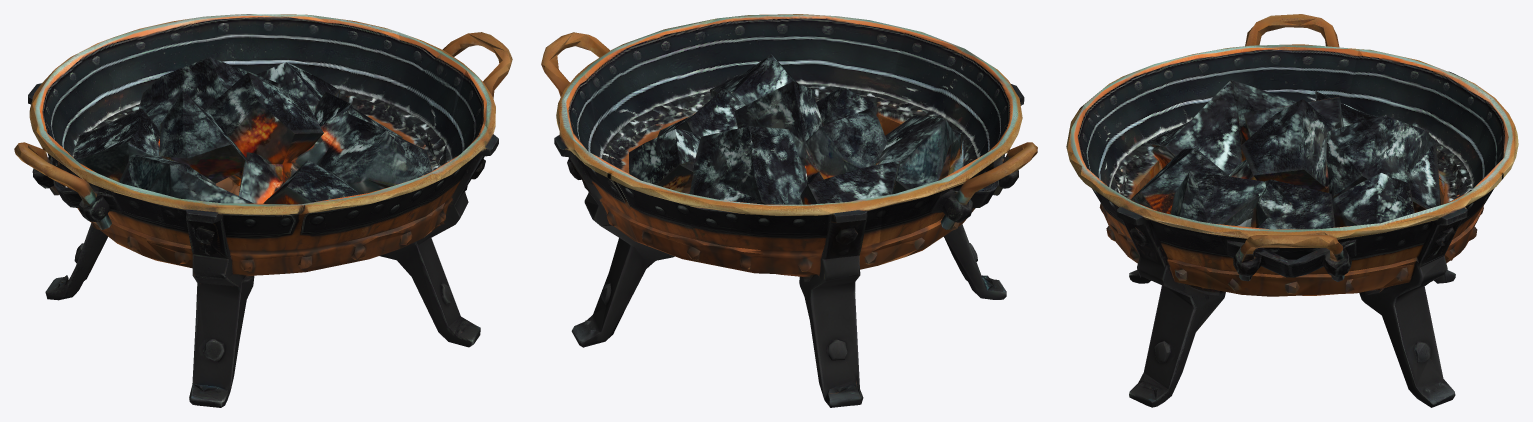
File: brazier.glb
The picture shows the model from 3 angles, left to right: view 1: azimuth 30°, elevation 25°; view 2: azimuth 150°, elevation 25°; view 3: azimuth 270°, elevation 25°; orthographic projection. The views are drawn at different scales.
Bounding box in the file's own units: 1.9 × 0.9248 × 1.6.
Materials: 1 (1 with a texture image).
